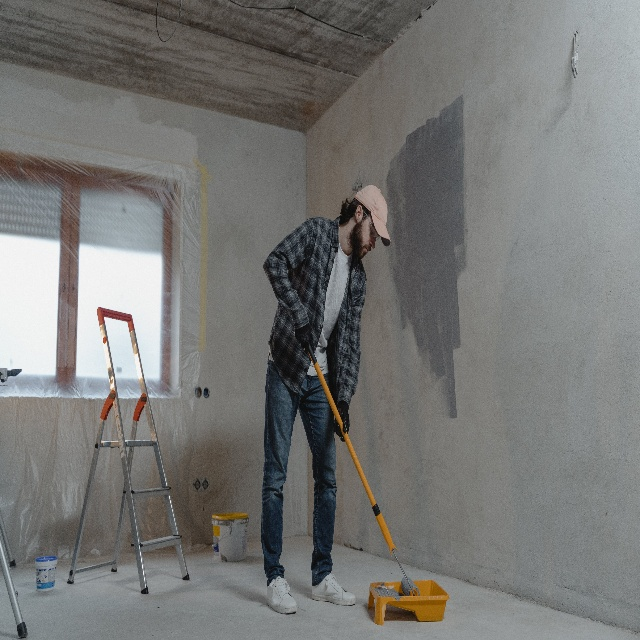Guantes: (333, 402, 350, 441), (295, 324, 314, 355)
